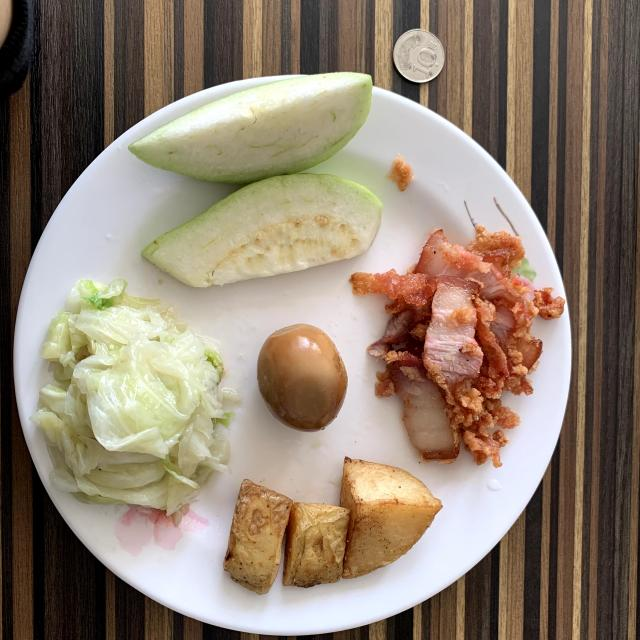cabbage: (30, 280, 230, 514)
coin: (394, 29, 445, 82)
fried potato: (224, 458, 441, 594)
guava -sliced-: (129, 72, 382, 288)
red grilled pork: (350, 225, 565, 468)
soy egg: (258, 324, 348, 431)
